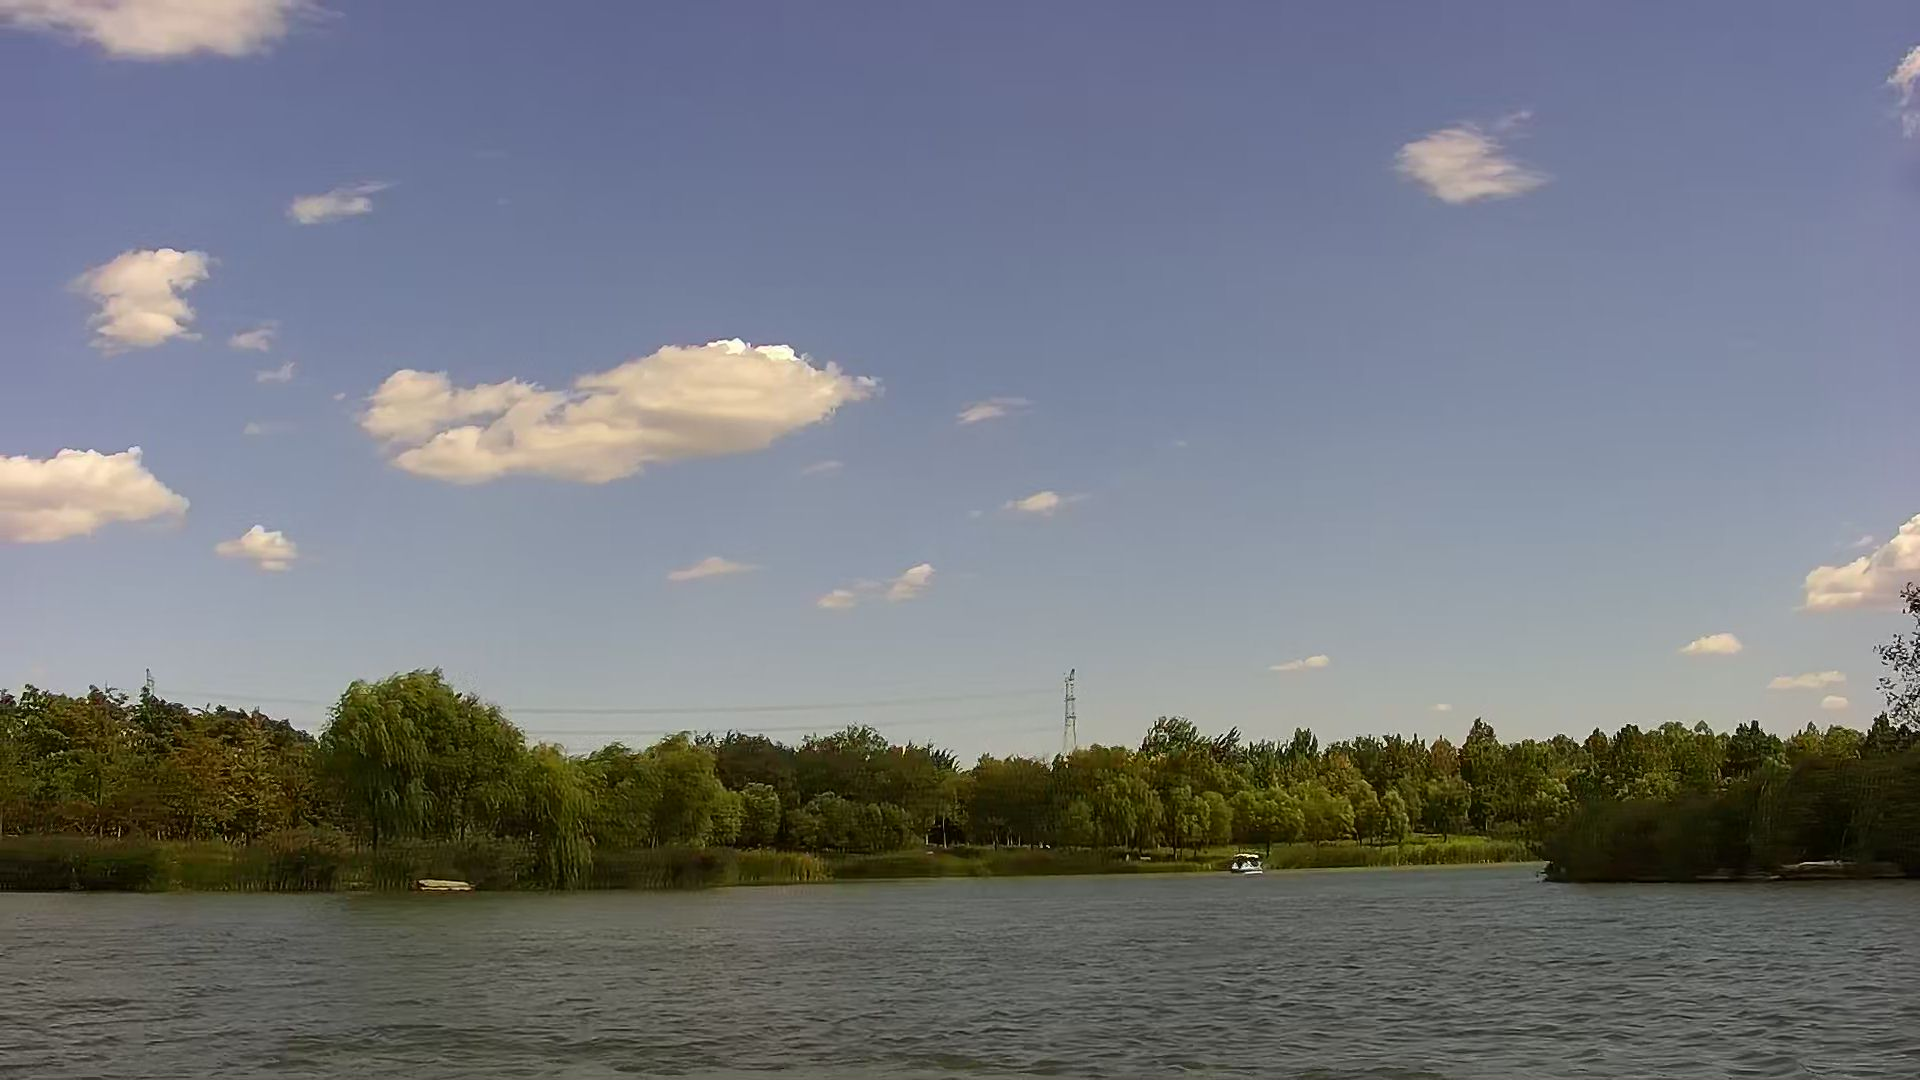boat: (1233, 851, 1255, 874)
rock: (1783, 855, 1846, 876), (417, 880, 469, 891)
